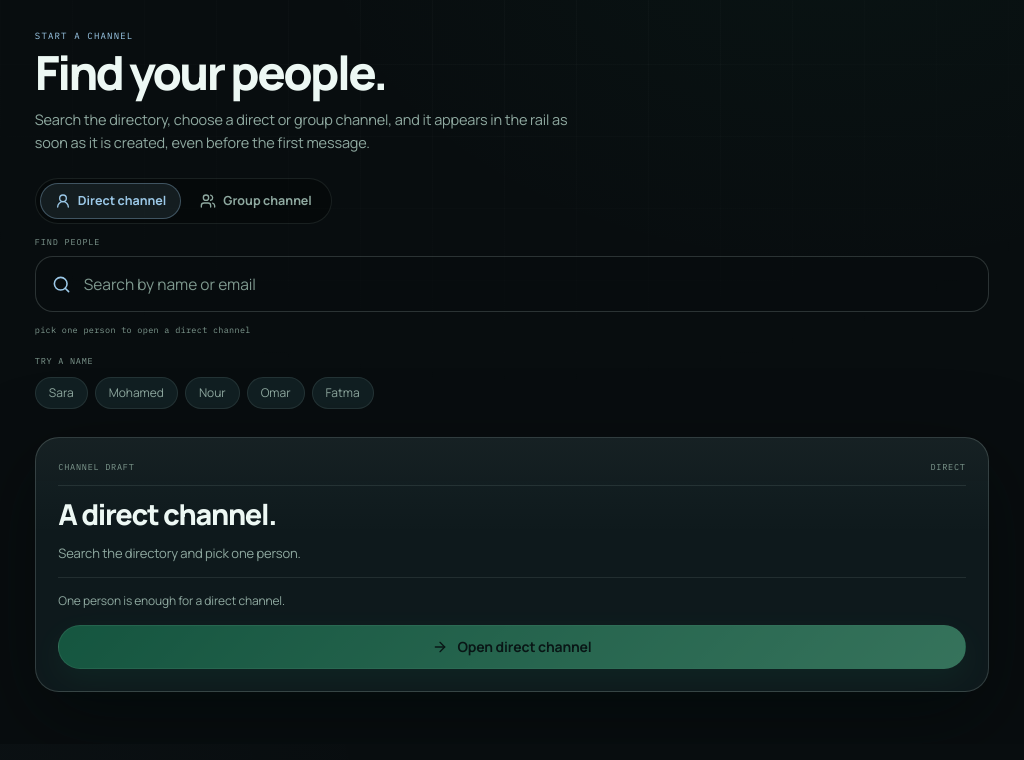
Test case: New conversation page › selects one person in direct mode and replaces the draft on a new pick
Type "Sa" into the search field with placeholder "Search by name or email".
click(527, 284); type("Sa")  # box x1=82 y1=257 x2=972 y2=311
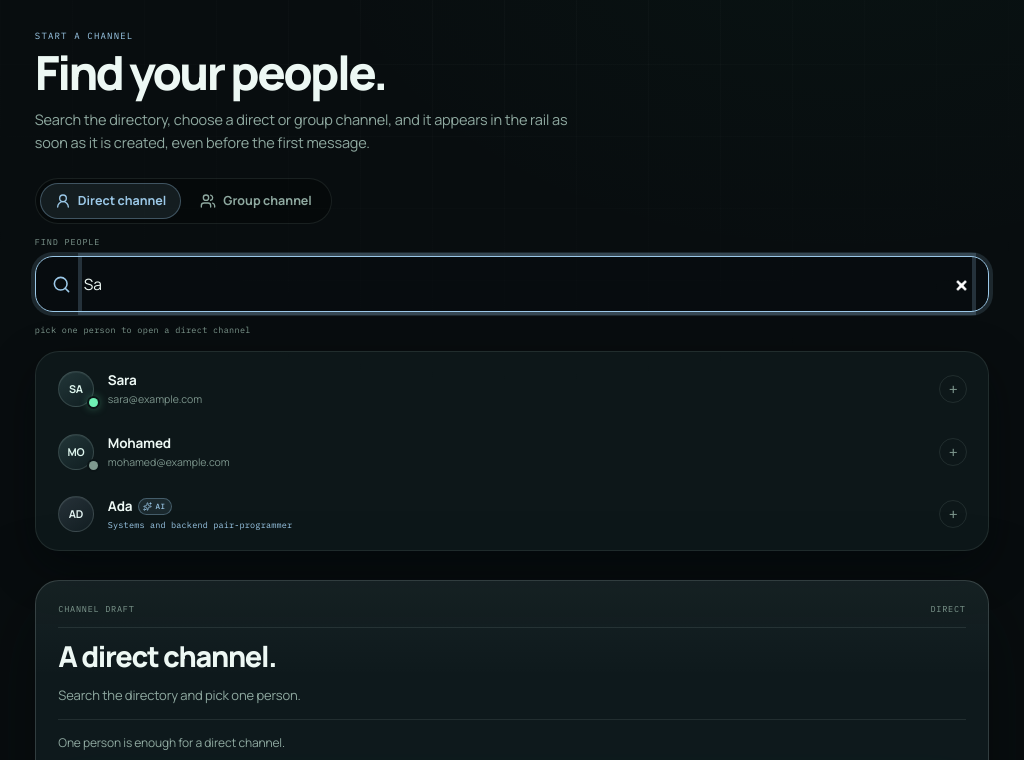
Now the element named "Search results" is shown, box x1=35 y1=351 x2=989 y2=551
Click the button "SA Sara sara@example.com +".
click(76, 389)  # box x1=43 y1=359 x2=981 y2=419
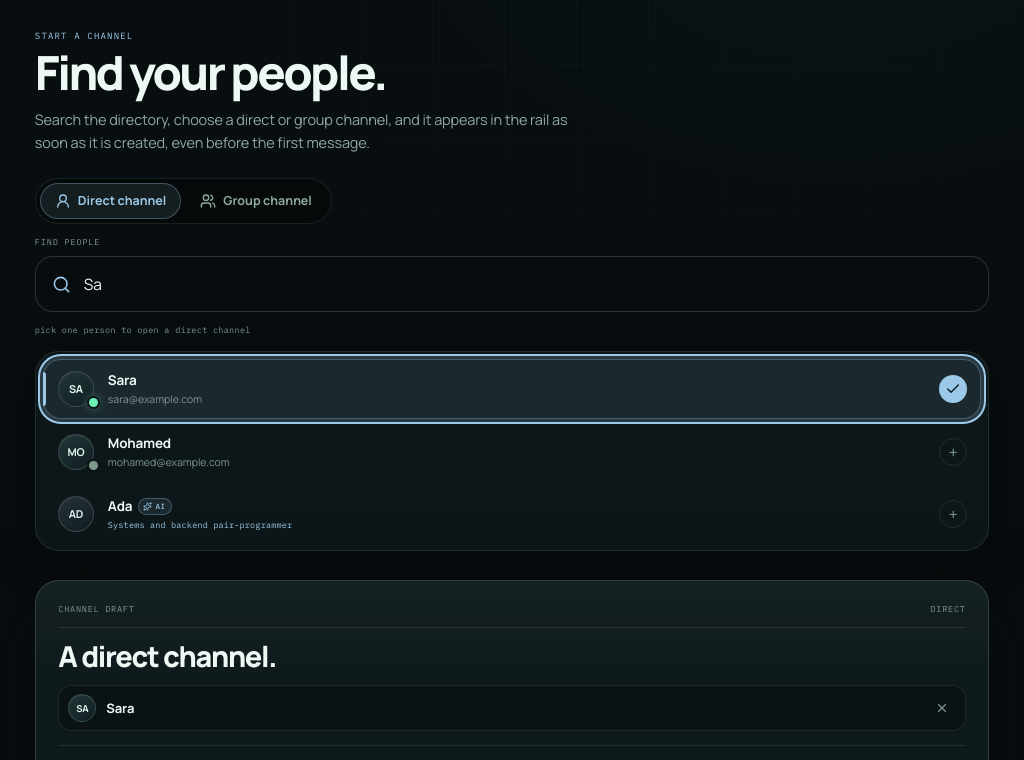
Replace the text in the search field with placeholder "Search by name or email" with "Mo" at (527, 284), box x1=82 y1=257 x2=972 y2=311
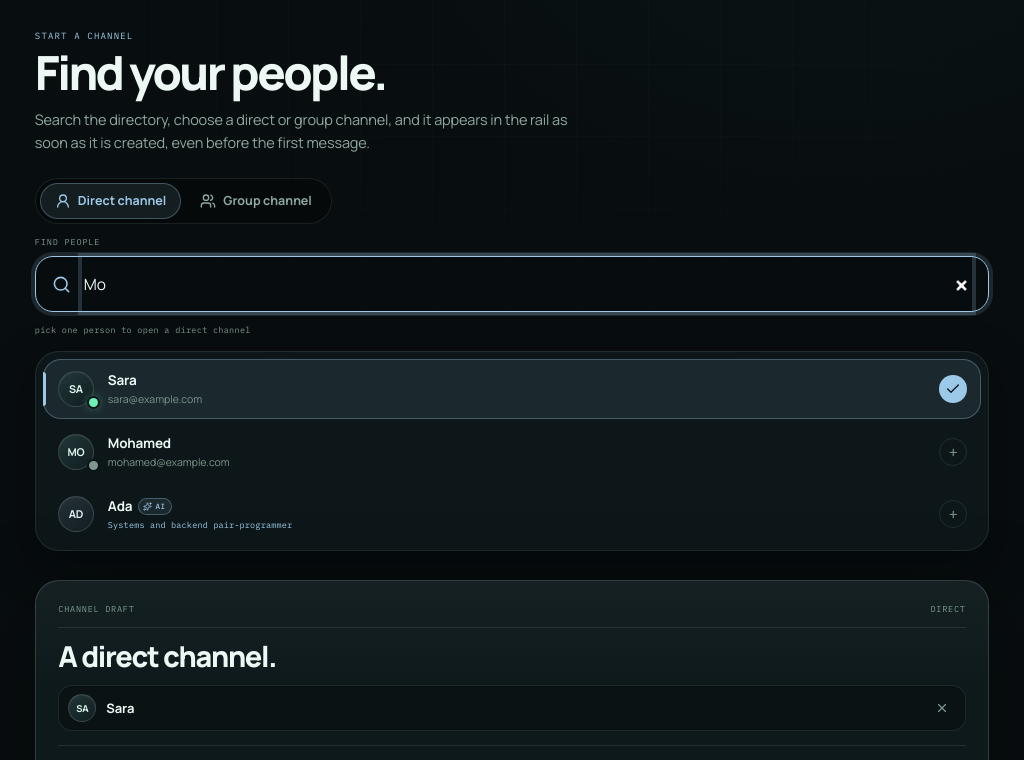
Now the element named "Search results" is shown, box x1=35 y1=351 x2=989 y2=551
Click the button "MO Mohamed mohamed@example.com +".
click(76, 452)  # box x1=43 y1=422 x2=981 y2=482
(page scrolled)
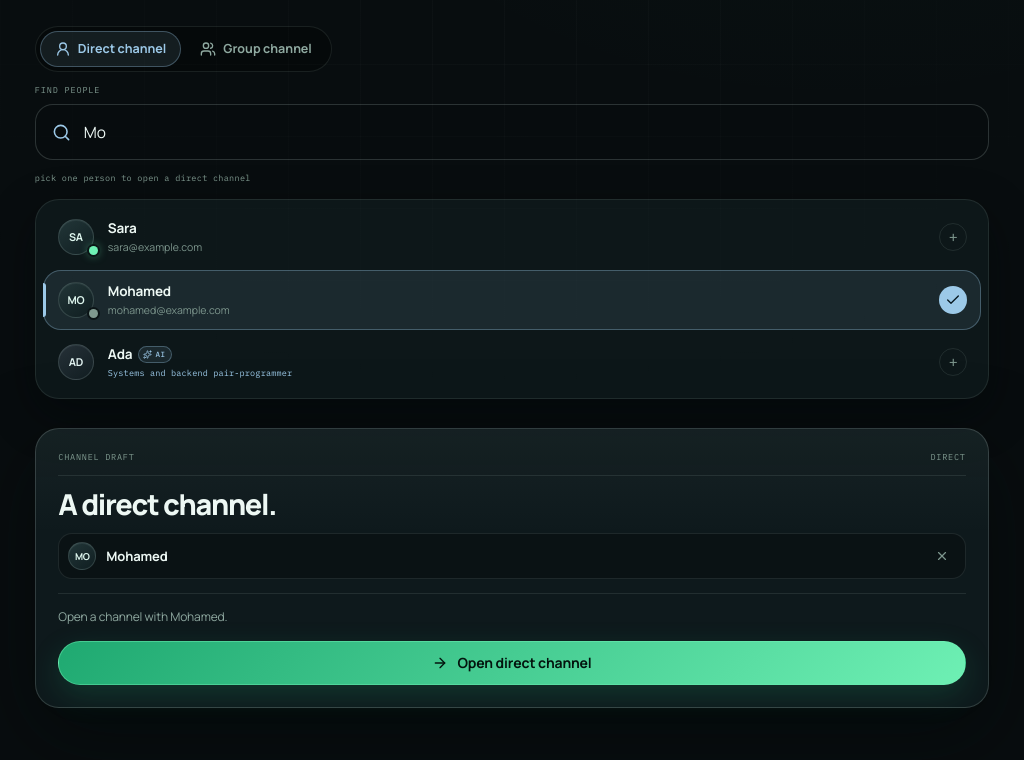
Now the text "Open a channel with Mohamed." is shown, box x1=58 y1=608 x2=227 y2=625
